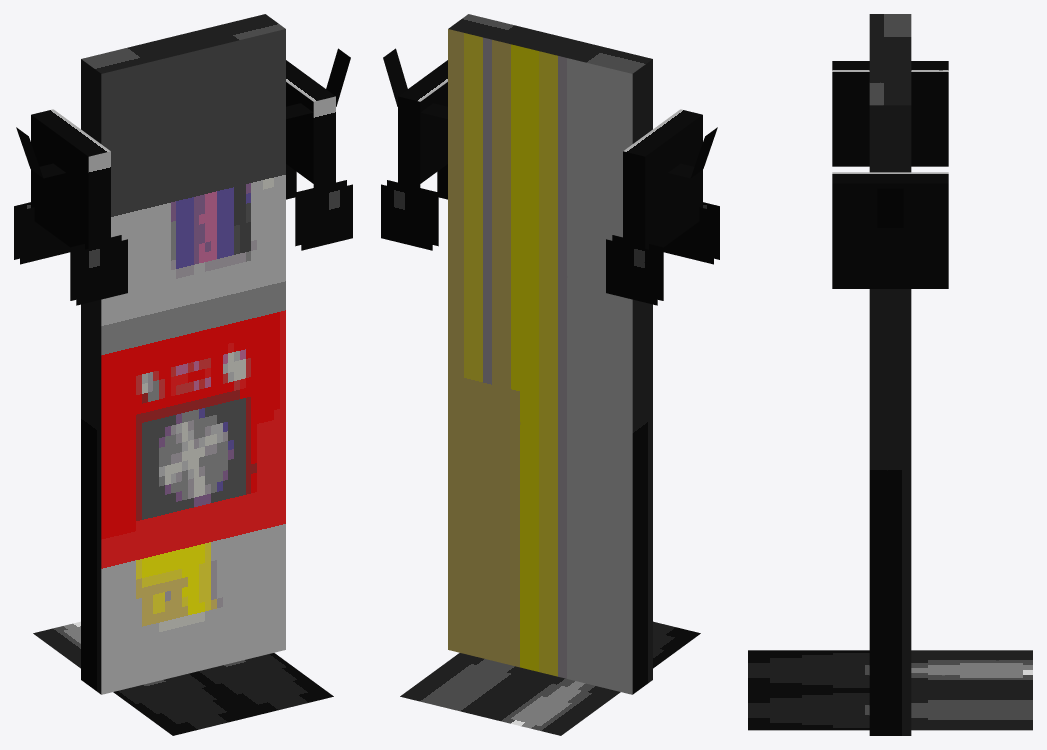
3 views of the same model, side by side, from view 1: azimuth 30°, elevation 25°; view 2: azimuth 150°, elevation 25°; view 3: azimuth 270°, elevation 25° (orthographic).
Parts seen in each view (by area): view 1: 3514kg_sh1_44; view 2: 3514kg_sh1_44; view 3: 3514kg_sh1_44.
Part boxes in pixels (<box>): 3514kg_sh1_44: <box>14,14,352,735</box>; 3514kg_sh1_44: <box>381,14,719,735</box>; 3514kg_sh1_44: <box>748,14,1032,735</box>.
Bounding box in the file's own units: 0.9424 × 1.74 × 0.7104.
3 materials, 3 textured.
